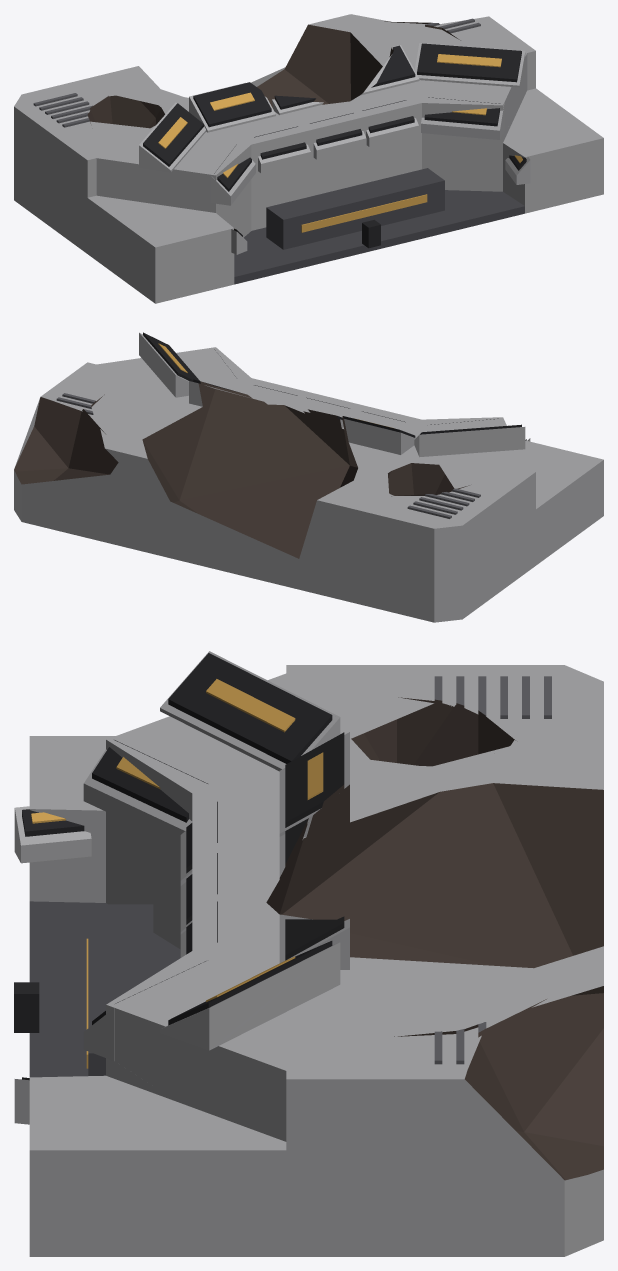
Rendered from vge_d_pilotbridge.obj.
3 renders of one model, top to bottom at view 1: azimuth 30°, elevation 25°; view 2: azimuth 150°, elevation 25°; view 3: azimuth 270°, elevation 25°, orthographic. The views are drawn at different scales.
Parts seen in each view (by area): view 1: vge_d_pilotbridge; view 2: vge_d_pilotbridge; view 3: vge_d_pilotbridge.
Boxes of the visible parts, left/top/right/bottom form: vge_d_pilotbridge: left=14, top=14, right=603, bottom=303; vge_d_pilotbridge: left=14, top=332, right=603, bottom=622; vge_d_pilotbridge: left=14, top=651, right=603, bottom=1256.
Bounding box in the file's own units: 5 × 1.25 × 3.01.
